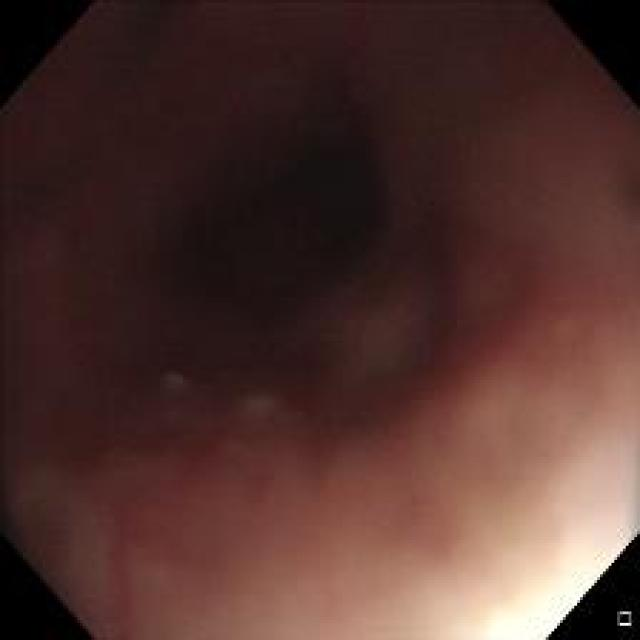blur: (2, 5, 636, 630)
contrast: (8, 5, 601, 548)
saturation: (475, 506, 631, 635)
